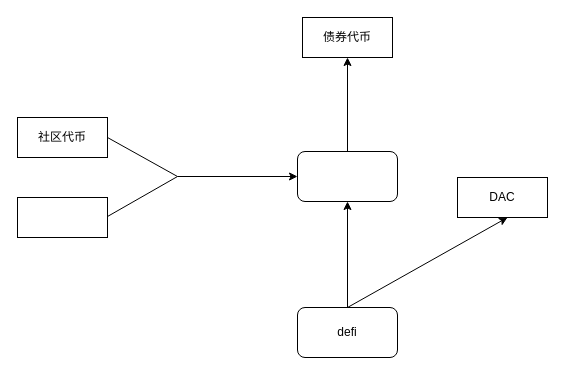
The diagram is 565 pixels wide and 375 high, and some of its shapes have lost their labels. The shapes that lost their labels are listed below. From the top down, each one's centre as x and y in pixels, then its label:
At point 347,176: "债券池".
At point 62,217: "USDT".
